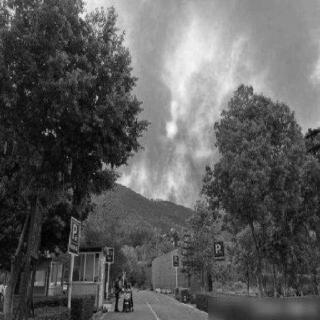Fire: (123, 108, 213, 215)
Smoke: (147, 1, 317, 113)
